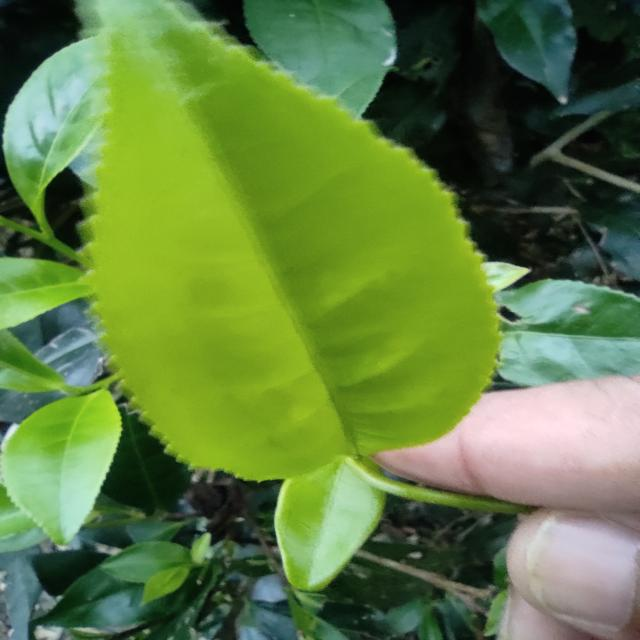Category C(4-7 days): (52, 0, 502, 491)
